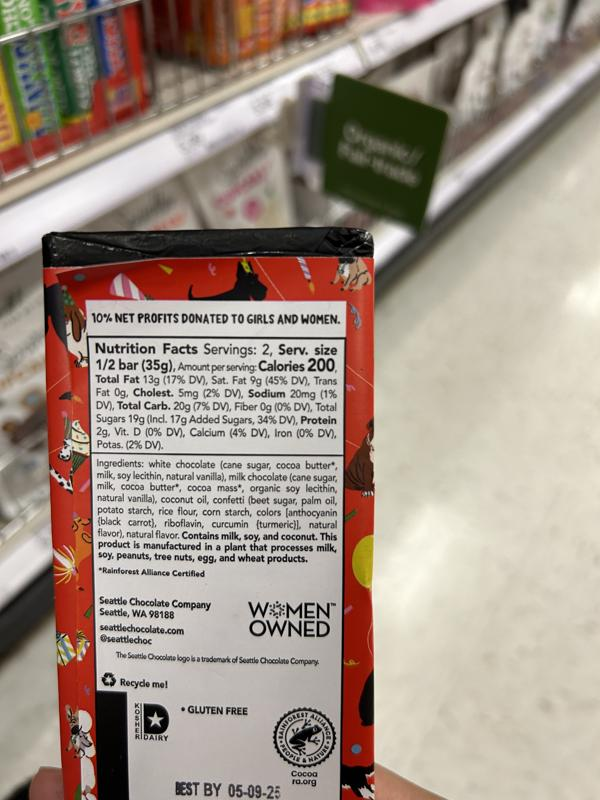ingredients: (94, 457, 341, 566)
